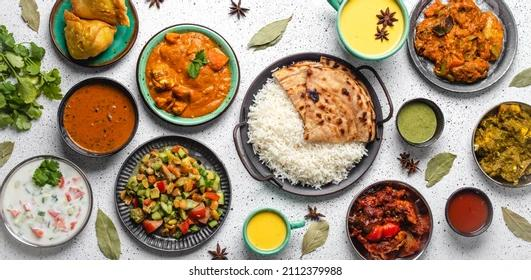Braised Crucian Carp: (233, 51, 387, 198), (113, 135, 230, 254), (136, 23, 238, 128), (405, 0, 517, 94), (0, 154, 92, 250), (346, 179, 433, 260), (48, 0, 137, 69), (471, 101, 529, 189)
